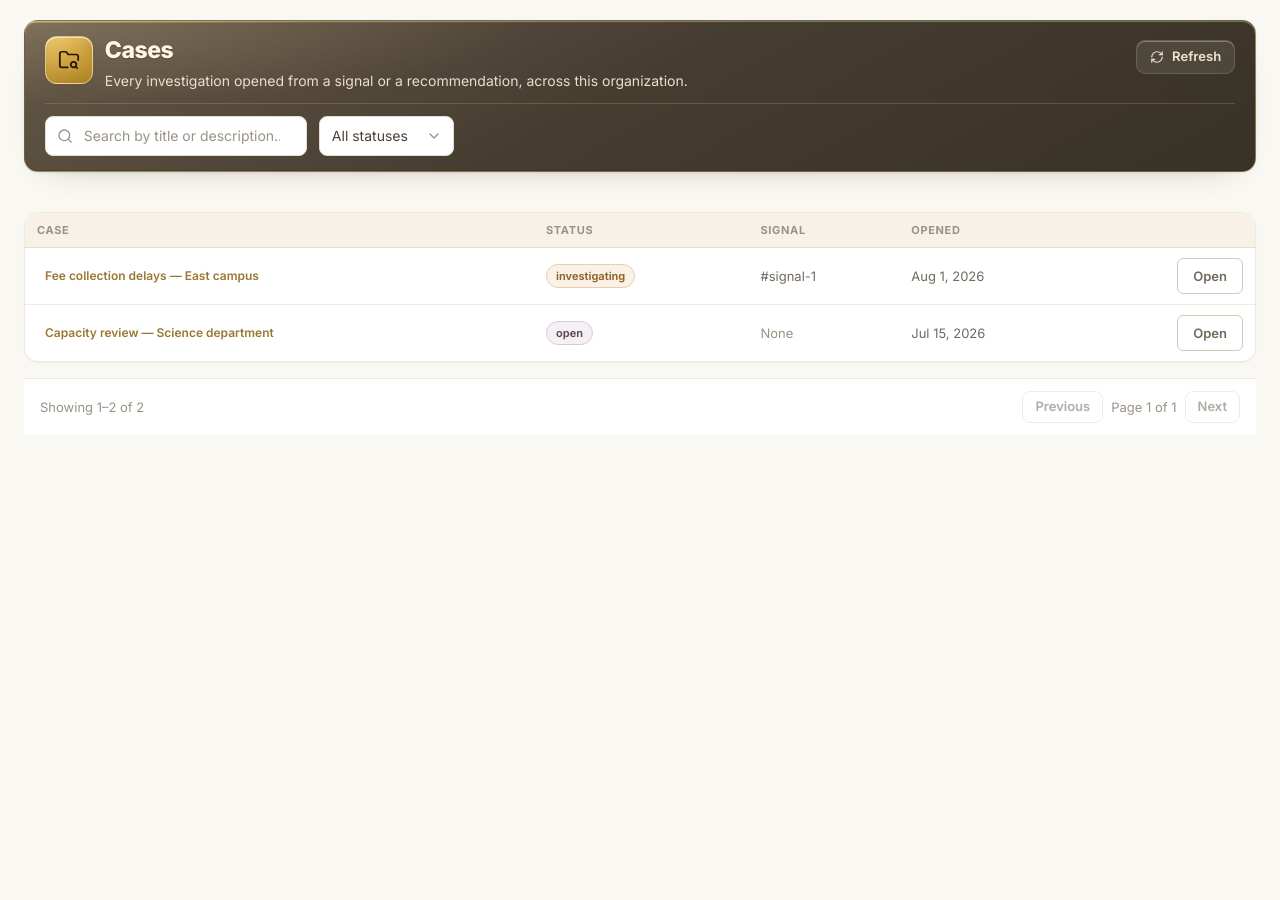
Test: CasesWorkspace — the case directory › opening a case › says plainly that a case with no signal has no traceable chain, rather than hiding the section
Click the button "Capacity review — Science department": (159, 333) [37, 322, 282, 344]
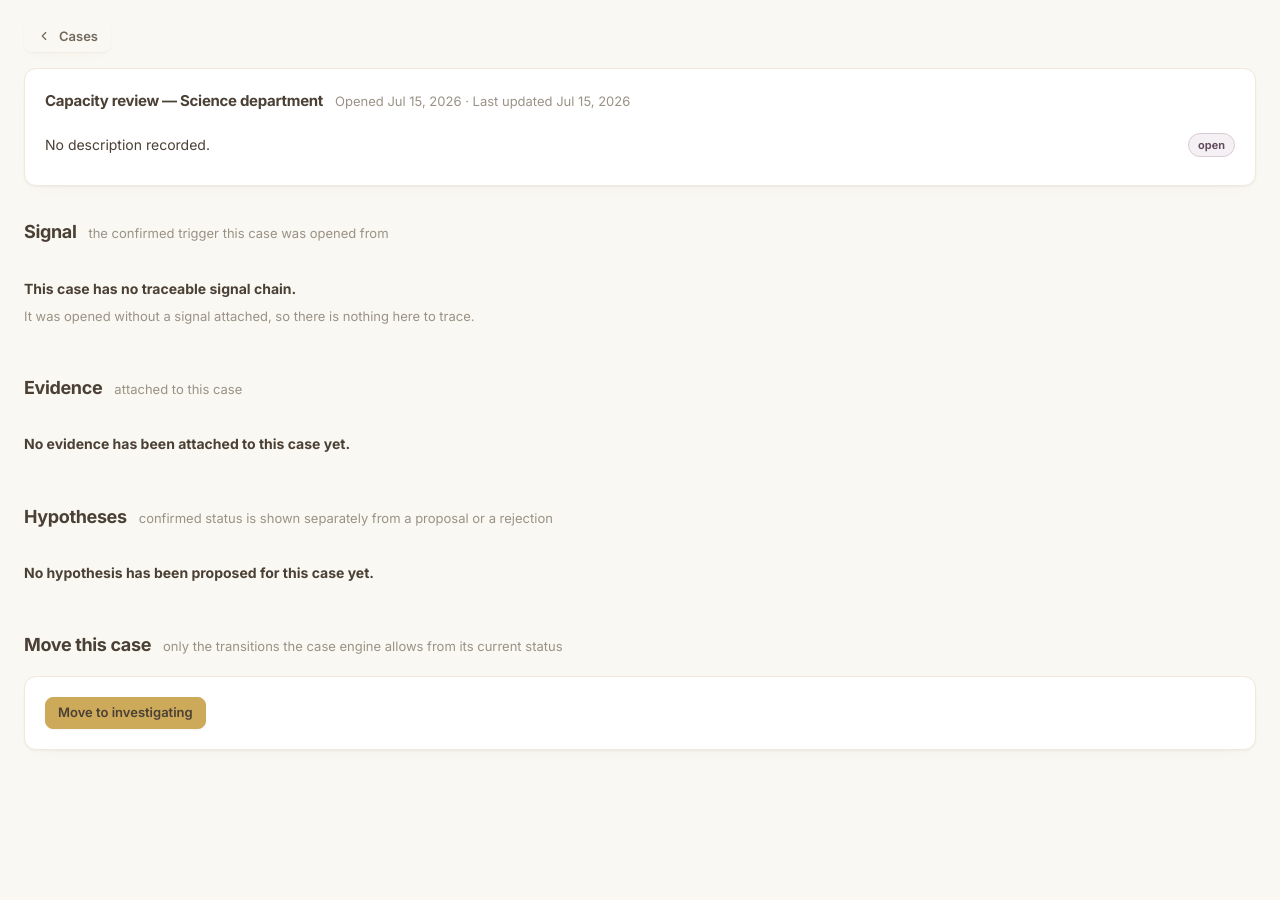
Expected: the text "This case has no traceable signal chain." is shown, [24, 279, 296, 299]
